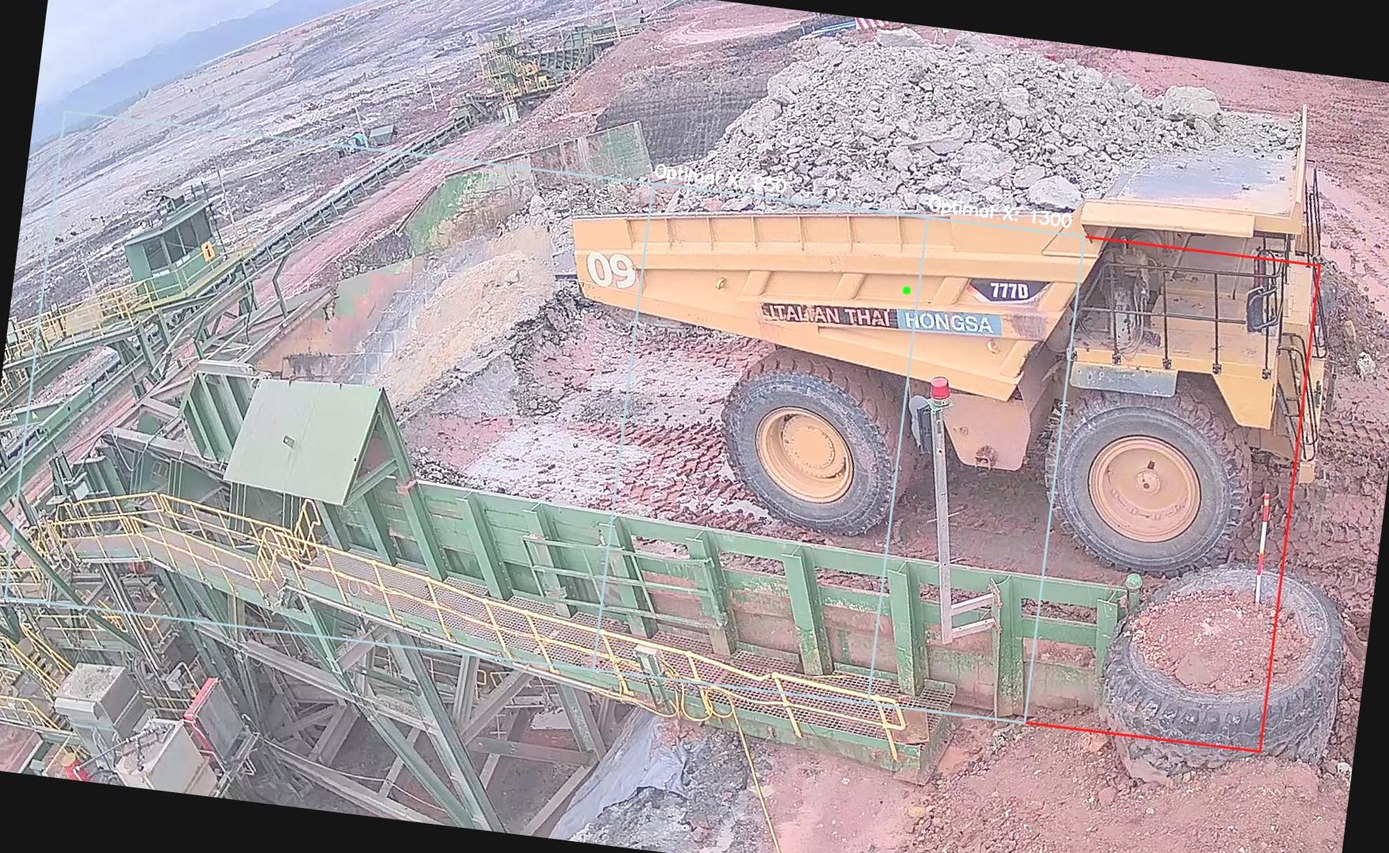company: (745, 276, 1009, 359)
full_load: (671, 13, 1156, 254)
mining_truck: (521, 0, 1375, 594)
tail_number: (576, 238, 645, 300)
truck_size: (964, 260, 1050, 307)
